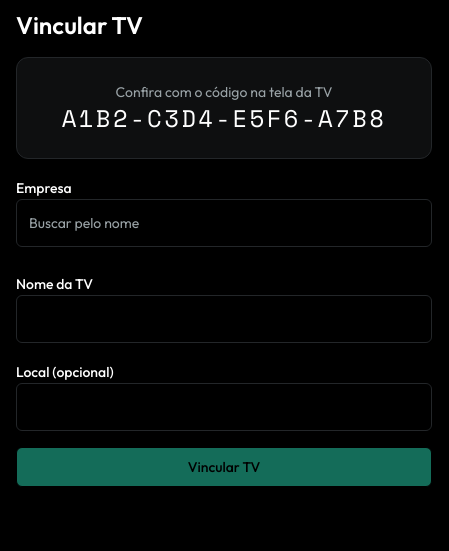
it: ParearView › busca só empresas com perfil de TV
The image size is (449, 551).
Type "xyz" into the field labelled "Empresa" at (224, 223), box [16,199,432,247]
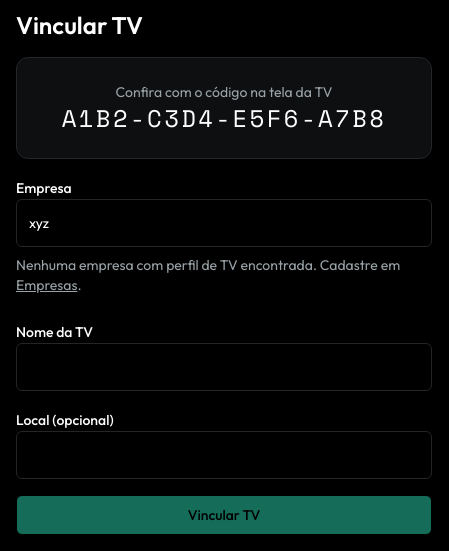
expect the text "Nenhuma empresa com perfil de TV encontrada" is shown: met, box [16,256,400,274]
